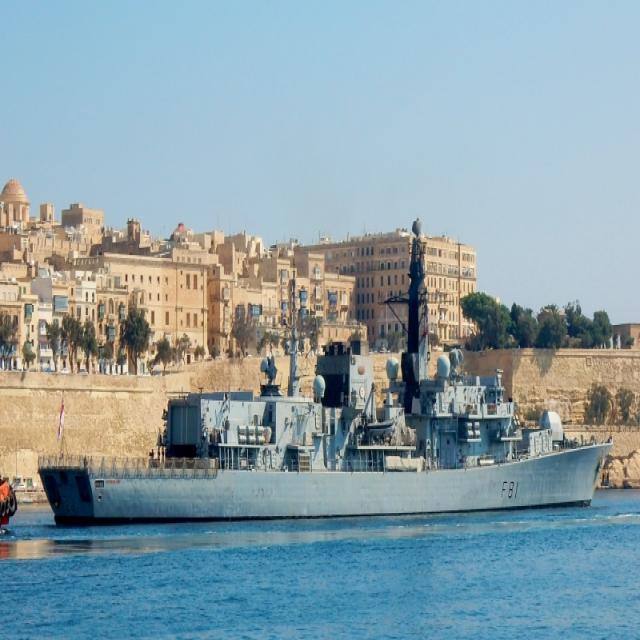Fragata: (37, 216, 616, 534)
